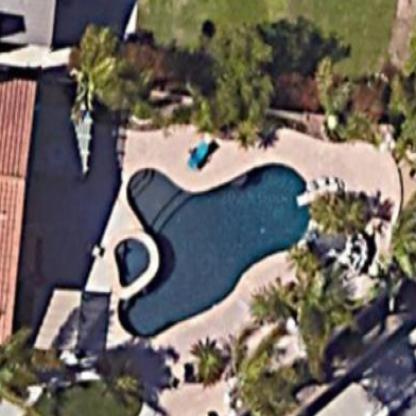pool: (110, 154, 320, 348)
